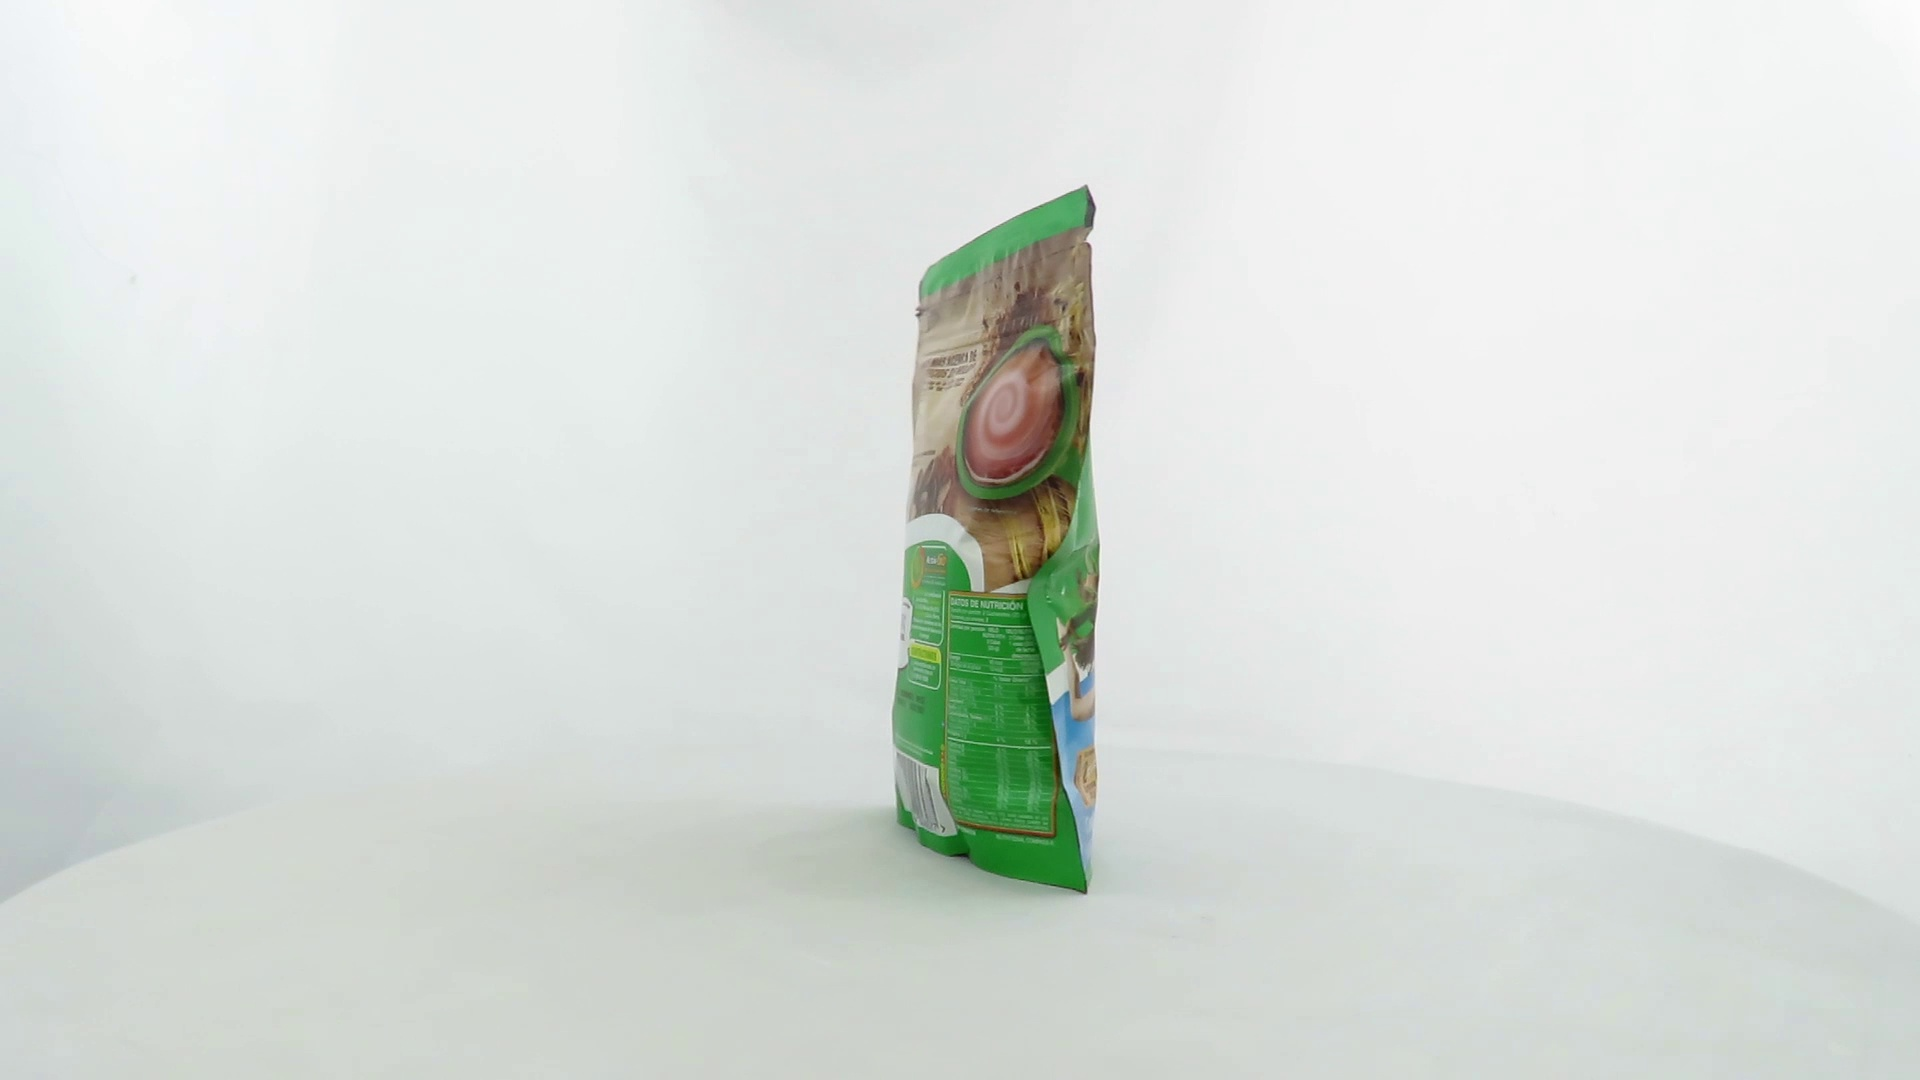COL0170205DYP20000: (887, 179, 1106, 901)
